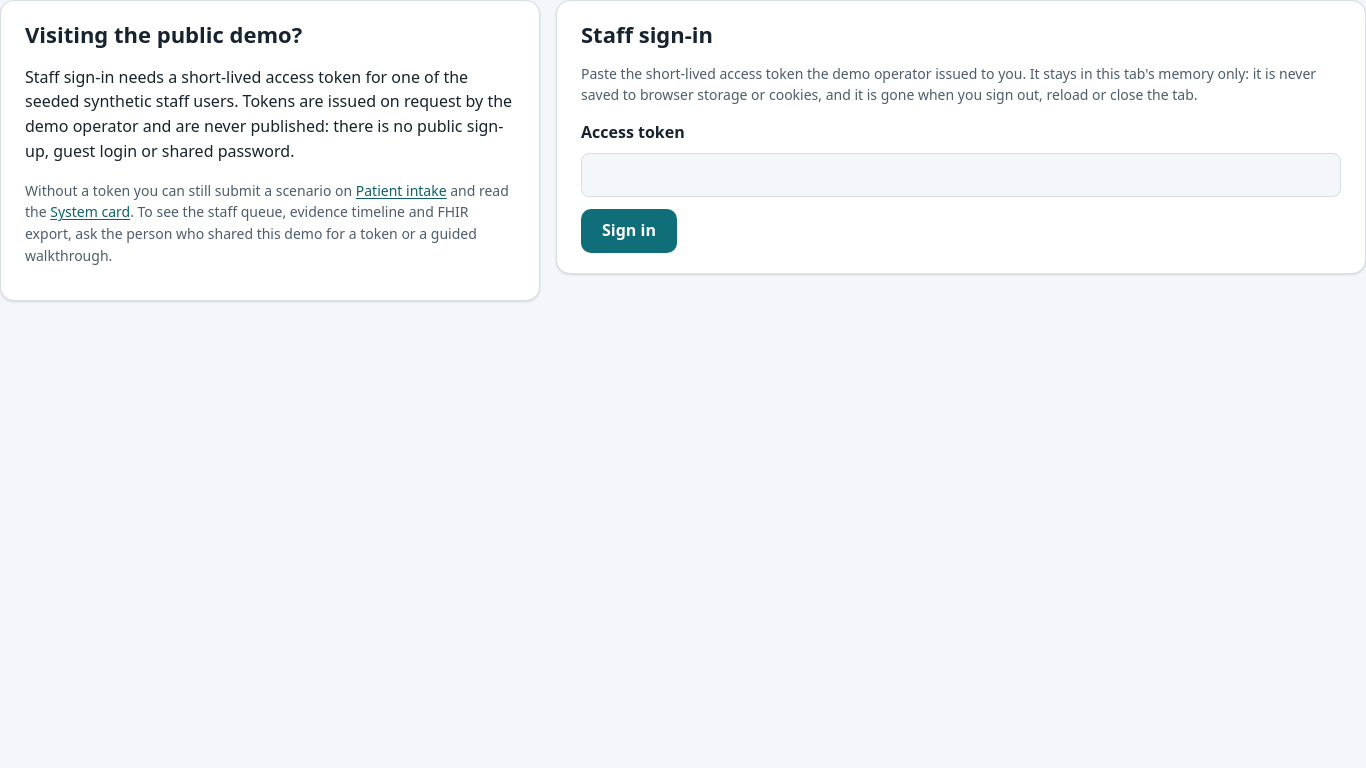
StaffReview detail and transitions › shows a detail fetch error
The width and height of the screenshot is (1366, 768).
Step 1. Type "v1.payload.signature" into the password field labelled "Access token" → coordinates (961, 175), box [581,153,1341,197]
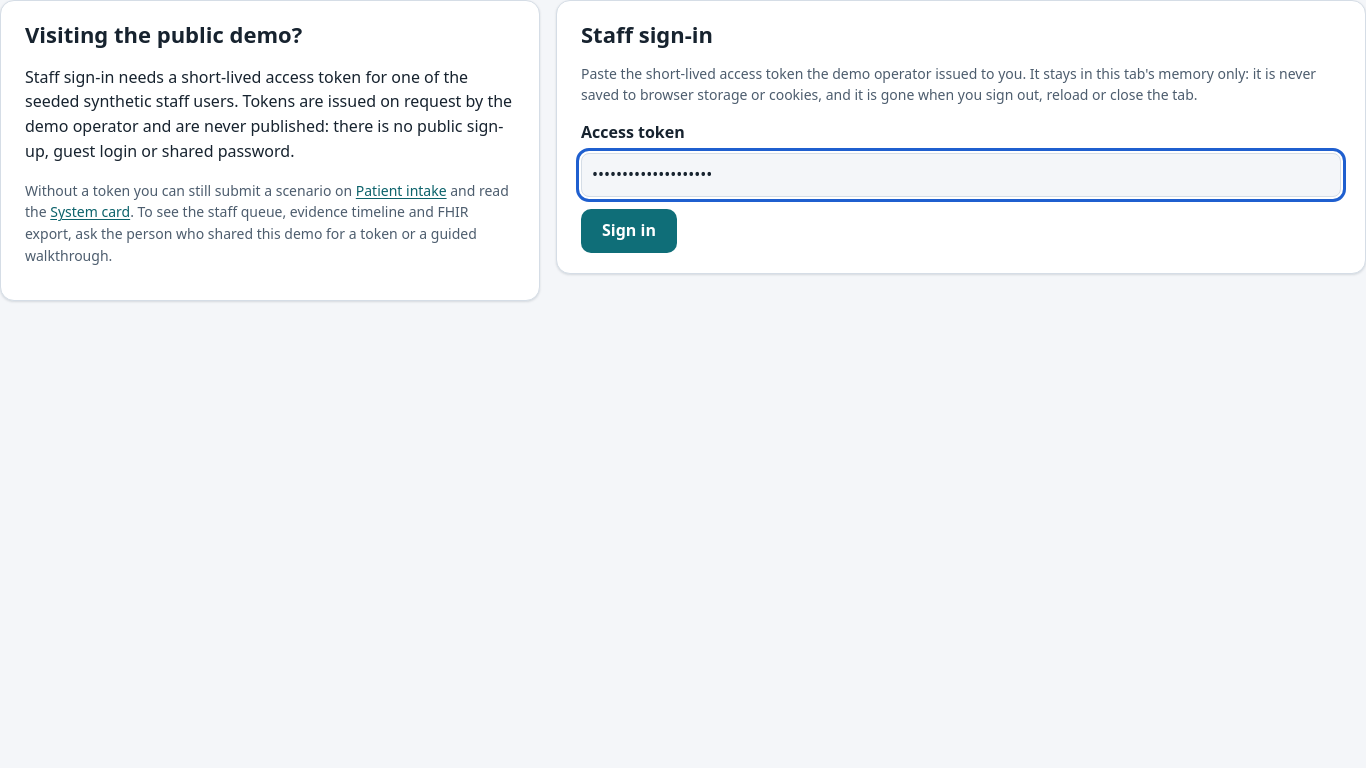
Step 2. Click the button "Sign in" → coordinates (629, 231), box [581,209,677,253]
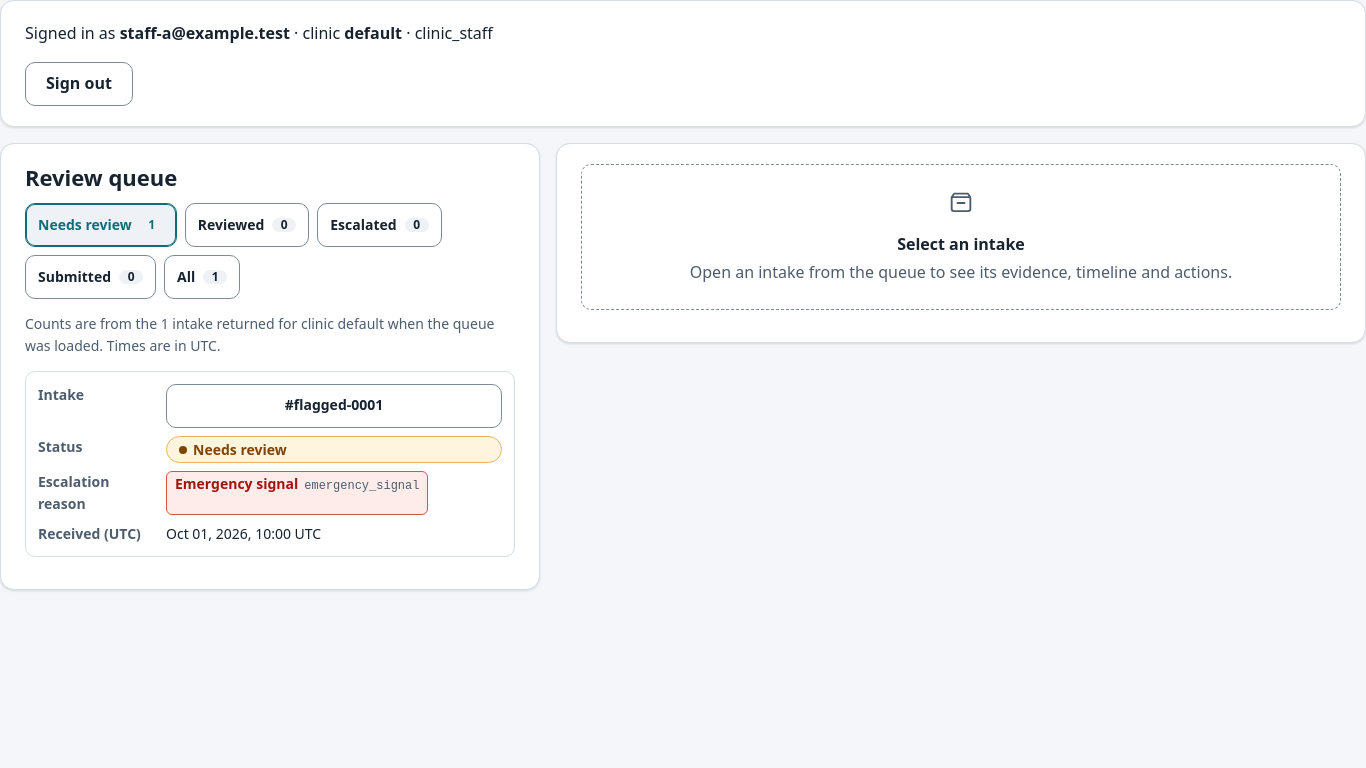
Step 3. Click the button with aria-label "Open " → coordinates (334, 406), box [166,384,502,428]
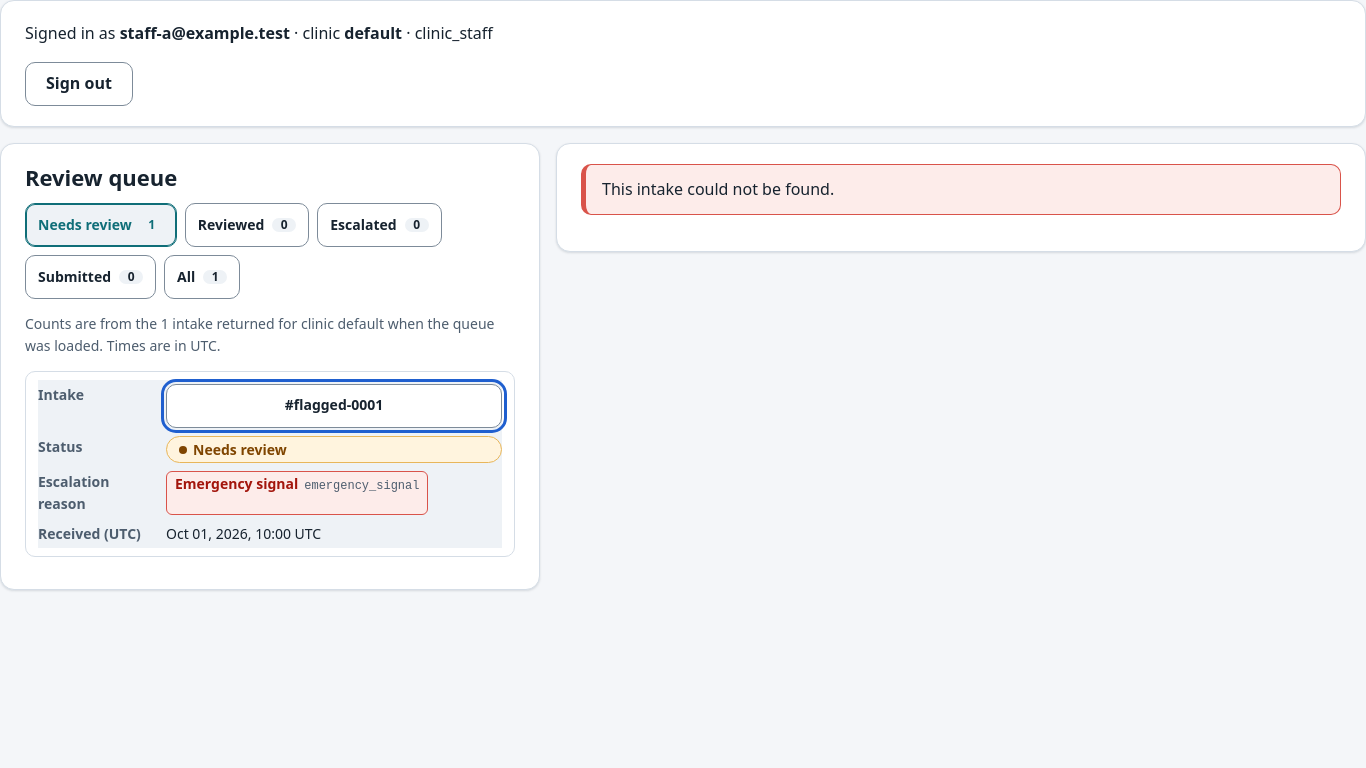
Now the message reads "This intake could not be found.", box [602,178,834,200]
